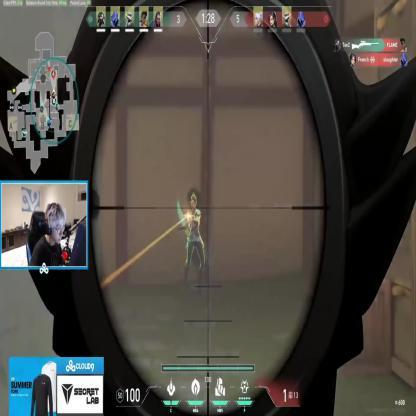enemy: (184, 195, 206, 292)
enemy_head: (190, 194, 197, 210)
